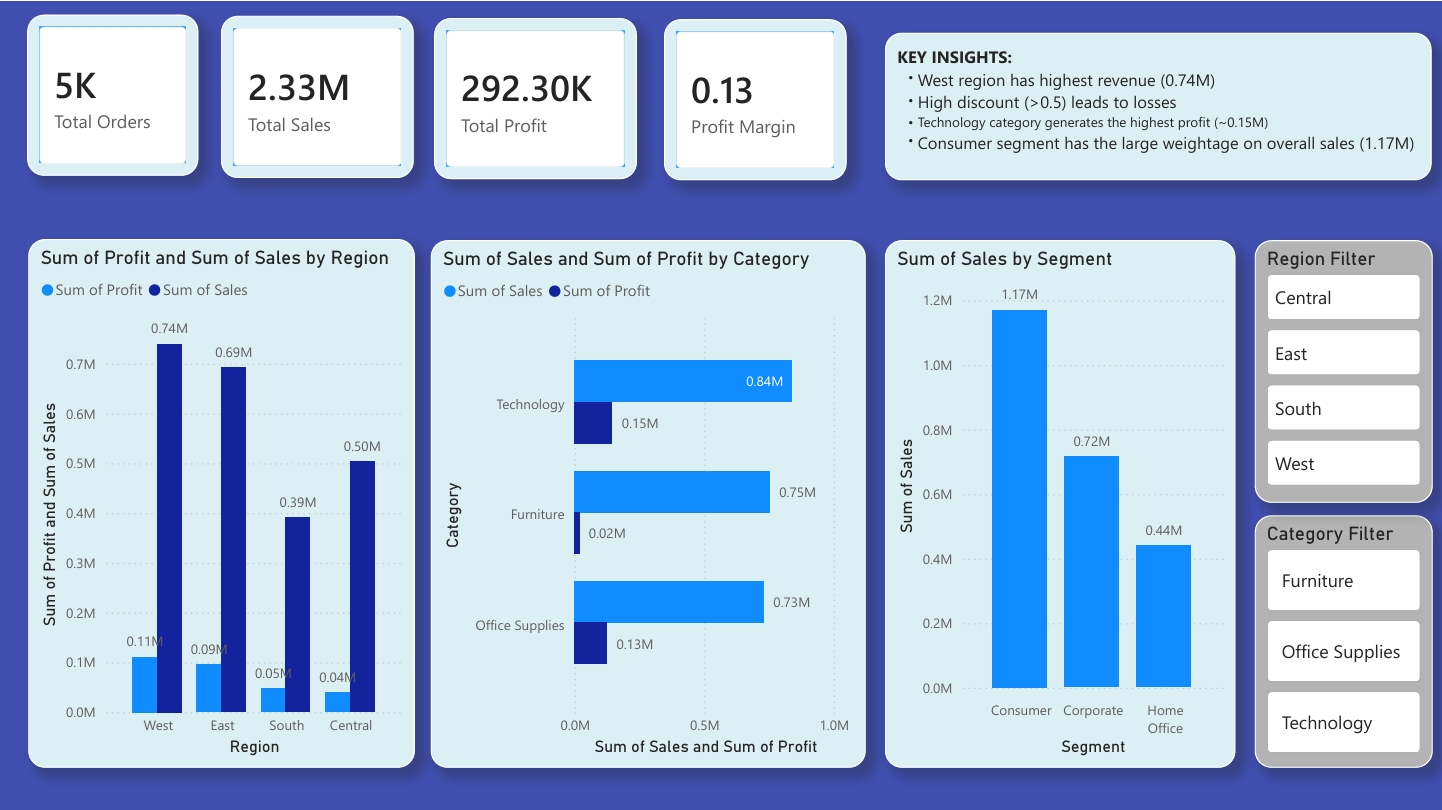

Layout of this report page (visuals, bound fields, positions):
{"tool":"powerbi","page":{"name":"Overview","canvas":[1280,720],"ordinal":0},"visuals":[{"type":"cardVisual","fields":{"Data":["Superstore Sales Dataset.Total Sales"]},"box":[195.7,13.5,171.2,143.1],"z":0},{"type":"cardVisual","fields":{"Data":["Superstore Sales Dataset.Total Profit"]},"box":[385.2,14.7,179.8,143.1],"z":1000},{"type":"cardVisual","fields":{"Data":["Superstore Sales Dataset.Total Orders"]},"box":[24.5,12.2,151.6,143.1],"z":2000},{"type":"cardVisual","fields":{"Data":["Superstore Sales Dataset.Profit Margin"]},"box":[589.4,15.9,161.4,143.1],"z":3000},{"type":"clusteredColumnChart","fields":{"Category":["Superstore Sales Dataset.Region"],"Y":["Sum(Superstore Sales Dataset.Profit)","Sum(Superstore Sales Dataset.Sales)"]},"box":[25,211.2,342.5,468.8],"z":4000},{"type":"clusteredBarChart","fields":{"Category":["Superstore Sales Dataset.Category"],"Y":["Sum(Superstore Sales Dataset.Sales)","Sum(Superstore Sales Dataset.Profit)"]},"box":[381.7,211.7,370,468.3],"z":5000},{"type":"columnChart","fields":{"Category":["Superstore Sales Dataset.Segment"],"Y":["Sum(Superstore Sales Dataset.Sales)"]},"box":[765,211.7,310,468.3],"z":6000},{"type":"advancedSlicerVisual","title":"Category Filter","fields":{"Values":["Superstore Sales Dataset.Category"]},"box":[1103.3,456.7,156.7,223.3],"z":7000},{"type":"advancedSlicerVisual","title":"Region Filter","fields":{"Values":["Superstore Sales Dataset.Region"]},"box":[1103.3,213.3,156.7,233.3],"z":8000},{"type":"textbox","box":[785,16.7,475,151.7],"z":9000}]}

Visuals, with their boxes in screenshot pixels (x1, y1, x2, y2), scaled from the page's 1280x720 canvas onto the 1442x810 screenshot:
cardVisual - Superstore Sales Dataset.Total Sales: BBox(220, 15, 413, 176)
cardVisual - Superstore Sales Dataset.Total Profit: BBox(434, 17, 637, 178)
cardVisual - Superstore Sales Dataset.Total Orders: BBox(28, 14, 198, 175)
cardVisual - Superstore Sales Dataset.Profit Margin: BBox(664, 18, 846, 179)
clusteredColumnChart - Superstore Sales Dataset.Region x Sum(Superstore Sales Dataset.Profit): BBox(28, 238, 414, 765)
clusteredBarChart - Superstore Sales Dataset.Category x Sum(Superstore Sales Dataset.Sales): BBox(430, 238, 847, 765)
columnChart - Superstore Sales Dataset.Segment x Sum(Superstore Sales Dataset.Sales): BBox(862, 238, 1211, 765)
"Category Filter" advancedSlicerVisual: BBox(1243, 514, 1419, 765)
"Region Filter" advancedSlicerVisual: BBox(1243, 240, 1419, 502)
textbox: BBox(884, 19, 1419, 189)
